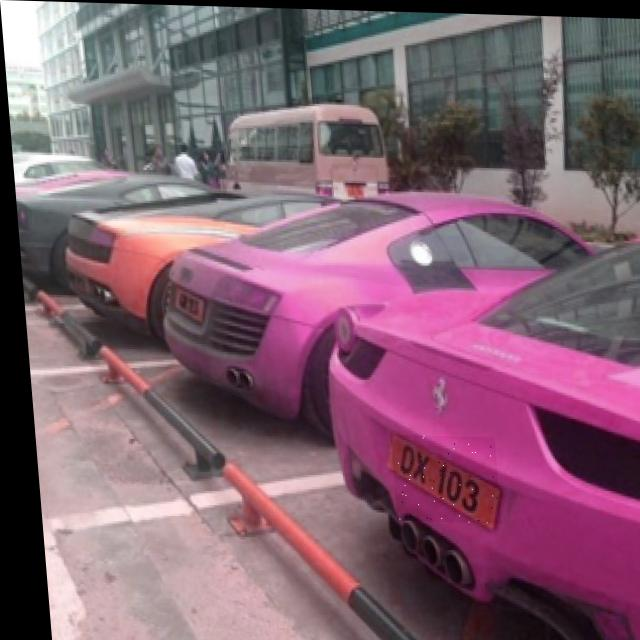license_plate: (383, 432, 493, 521)
